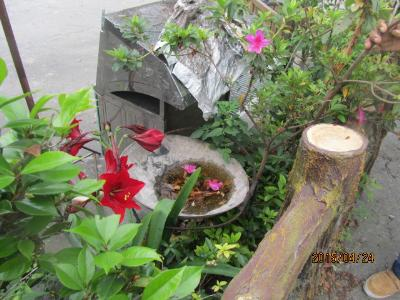bowl: (109, 130, 253, 218)
